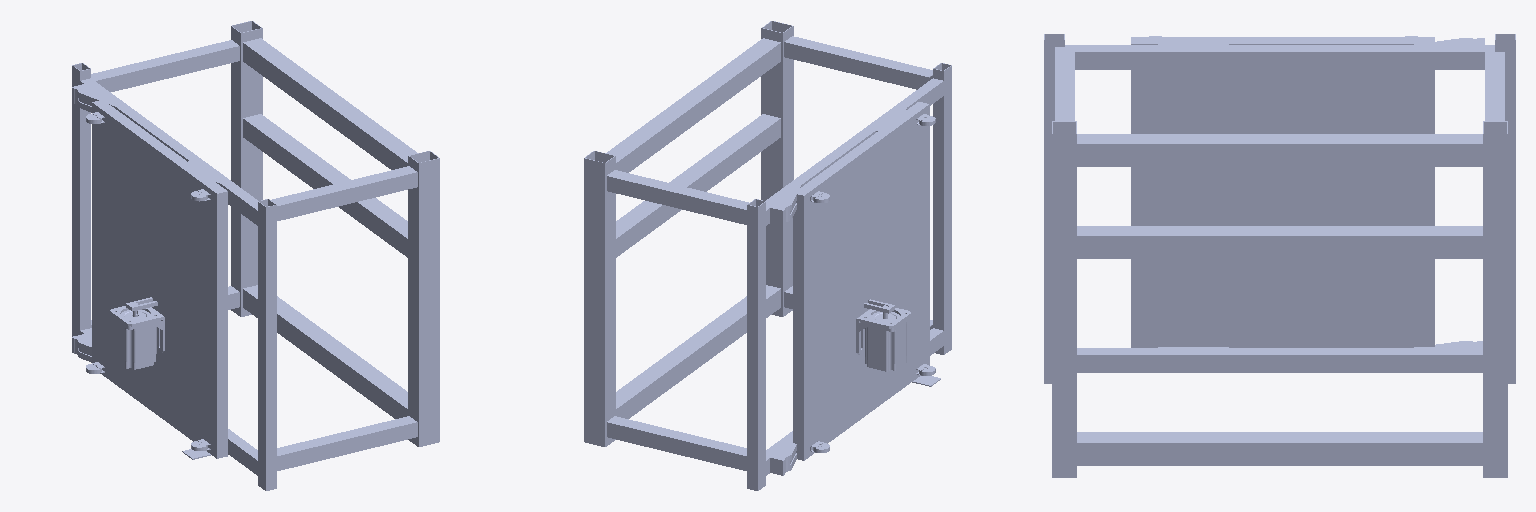
The robot description file, URDF, robot "yeni_sase_urdf":
<?xml version="1.0" encoding="utf-8"?>
<!-- This URDF was automatically created by SolidWorks to URDF Exporter! Originally created by [author] ([email redacted]) 
     Commit Version: 1.6.0-4-g7f85cfe  Build Version: 1.6.7995.38578
     For more information, please see http://wiki.ros.org/sw_urdf_exporter -->
<robot
  name="yeni_sase_urdf">
  <link
    name="base_link">
    <inertial>
      <origin
        xyz="0.20778284911169 0.500688780974497 -0.821119105509982"
        rpy="0 0 0" />
      <mass
        value="3.39583209349639" />
      <inertia
        ixx="0.126259967804445"
        ixy="-1.75049323304669E-18"
        ixz="-6.63675144834222E-05"
        iyy="0.0845853380793104"
        iyz="-1.00908729378993E-18"
        izz="0.0563582526867151" />
    </inertial>
    <visual>
      <origin
        xyz="0 0 0"
        rpy="0 0 0" />
      <geometry>
        <mesh
          filename="package://yeni_sase_urdf/meshes/base_link.STL" />
      </geometry>
      <material
        name="">
        <color
          rgba="0.792156862745098 0.819607843137255 0.933333333333333 1" />
      </material>
    </visual>
    <collision>
      <origin
        xyz="0 0 0"
        rpy="0 0 0" />
      <geometry>
        <mesh
          filename="package://yeni_sase_urdf/meshes/base_link.STL" />
      </geometry>
    </collision>
  </link>
  <link
    name="link_1">
    <inertial>
      <origin
        xyz="-0.040786591103774 0.0106331424004903 -0.0147832753958783"
        rpy="0 0 0" />
      <mass
        value="13.5579685673451" />
      <inertia
        ixx="0.380706613752218"
        ixy="6.35942890933647E-05"
        ixz="-0.00103243351106835"
        iyy="0.895637248320483"
        iyz="7.34300665018099E-05"
        izz="0.517867405124061" />
    </inertial>
    <visual>
      <origin
        xyz="0 0 0"
        rpy="0 0 0" />
      <geometry>
        <mesh
          filename="package://yeni_sase_urdf/meshes/link_1.STL" />
      </geometry>
      <material
        name="">
        <color
          rgba="0.792156862745098 0.819607843137255 0.933333333333333 1" />
      </material>
    </visual>
    <collision>
      <origin
        xyz="0 0 0"
        rpy="0 0 0" />
      <geometry>
        <mesh
          filename="package://yeni_sase_urdf/meshes/link_1.STL" />
      </geometry>
    </collision>
  </link>
  <joint
    name="joint0"
    type="fixed">
    <origin
      xyz="-0.074143 0.79765 0.43372"
      rpy="1.5708 1.5708 0" />
    <parent
      link="base_link" />
    <child
      link="link_1" />
    <axis
      xyz="0 0 0" />
  </joint>
</robot>

--- Render facts (derived) ---
The picture shows the robot from 3 angles, left to right: view 1: azimuth 30°, elevation 25°; view 2: azimuth 150°, elevation 25°; view 3: azimuth 270°, elevation 25°; orthographic projection.
Robot: yeni_sase_urdf — 2 links, 1 joints (1 fixed); root link base_link; default pose: all joints at 0.
Links seen in each view (by area): view 1: base_link, link_1; view 2: base_link, link_1; view 3: base_link, link_1.
Link boxes in pixels (x1,y1,x2,y2): base_link: (72,21,439,490); link_1: (86,100,227,459); base_link: (584,21,951,490); link_1: (793,102,940,460); base_link: (1044,34,1515,477); link_1: (1131,36,1434,347).
Size in the robot's own frame: 0.6248 by 0.93 by 0.76 metres.
Meshes: 2 distinct files referenced, 2 mesh visuals loaded (2 binary STL).